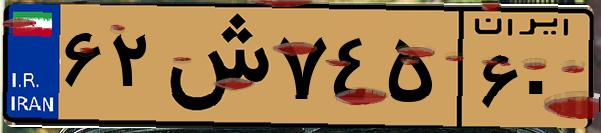0: (525, 38, 570, 115)
2: (110, 28, 158, 98)
4: (330, 28, 385, 110)
5: (385, 28, 445, 110)
6: (57, 26, 110, 100), (475, 38, 525, 113)
7: (270, 28, 330, 110)
ش: (158, 12, 270, 120)
